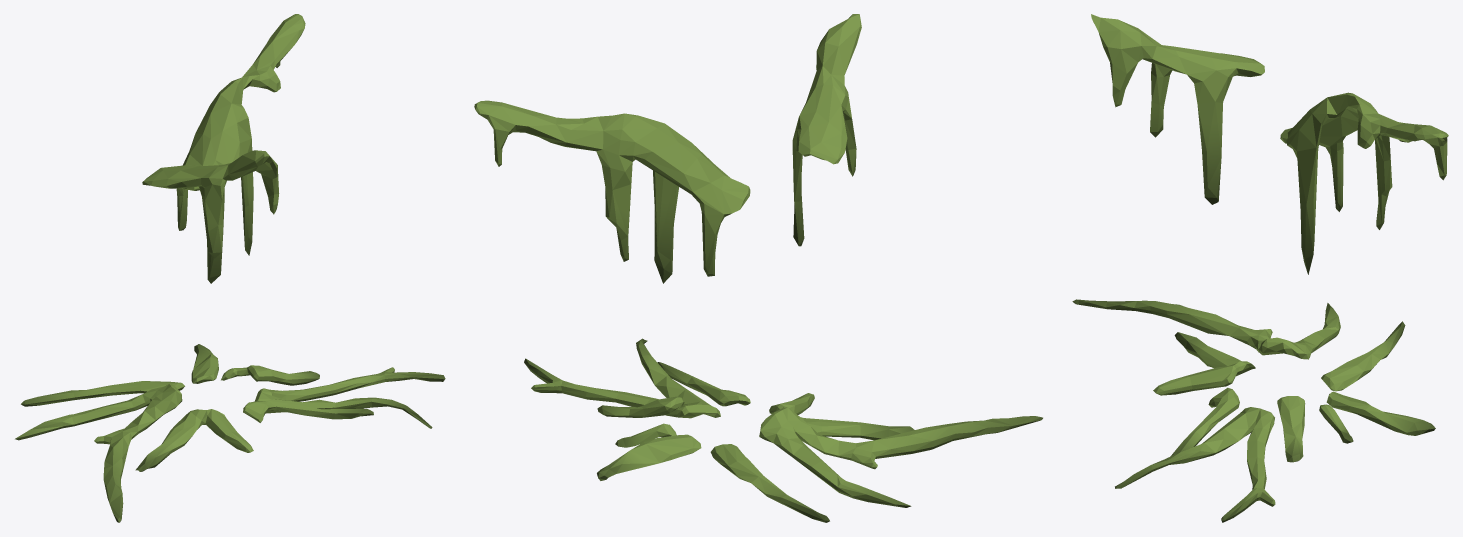
Rendered from Jungle_Tree_Dead_C_Grass.fbx.
The picture shows the model from 3 angles, left to right: view 1: azimuth 30°, elevation 25°; view 2: azimuth 150°, elevation 25°; view 3: azimuth 270°, elevation 25°; orthographic projection. The views are drawn at different scales.
Parts seen in each view (by area): view 1: Jungle_Tree_Dead_C_Grass; view 2: Jungle_Tree_Dead_C_Grass; view 3: Jungle_Tree_Dead_C_Grass.
Part boxes in pixels (box(x1,y1,x2,y2)): Jungle_Tree_Dead_C_Grass: box(15, 14, 445, 522); Jungle_Tree_Dead_C_Grass: box(474, 14, 1042, 522); Jungle_Tree_Dead_C_Grass: box(1072, 14, 1448, 522).
Bounding box in the file's own units: 8.17 × 6.5 × 5.88.
Materials: 1 (1 with a texture image).
